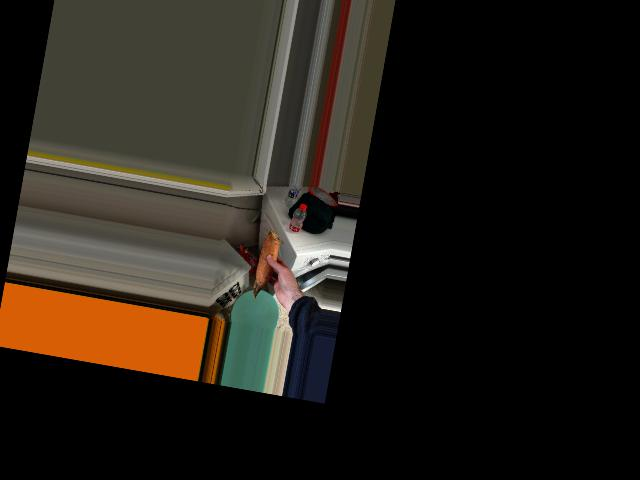sweet_potato: (253, 236, 283, 296)
